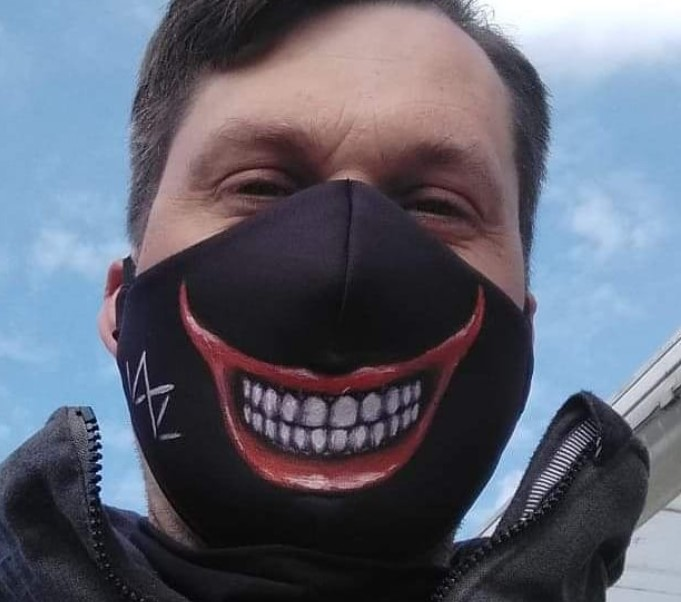face_with_mask: (97, 0, 543, 585)
